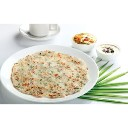dosa: (10, 49, 92, 99)
